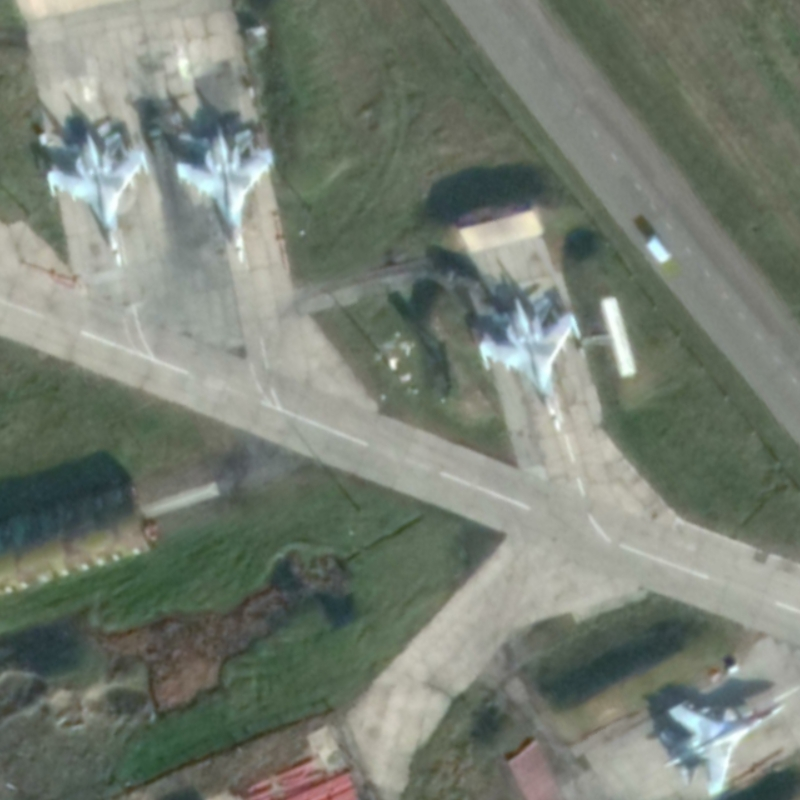A1: (476, 294, 588, 436), (172, 120, 277, 266), (45, 129, 152, 270), (656, 697, 792, 800)
